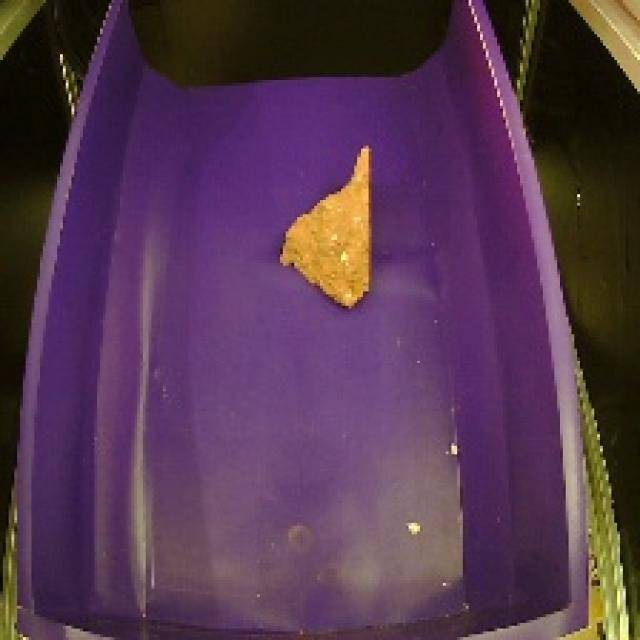brick: (268, 134, 382, 316)
